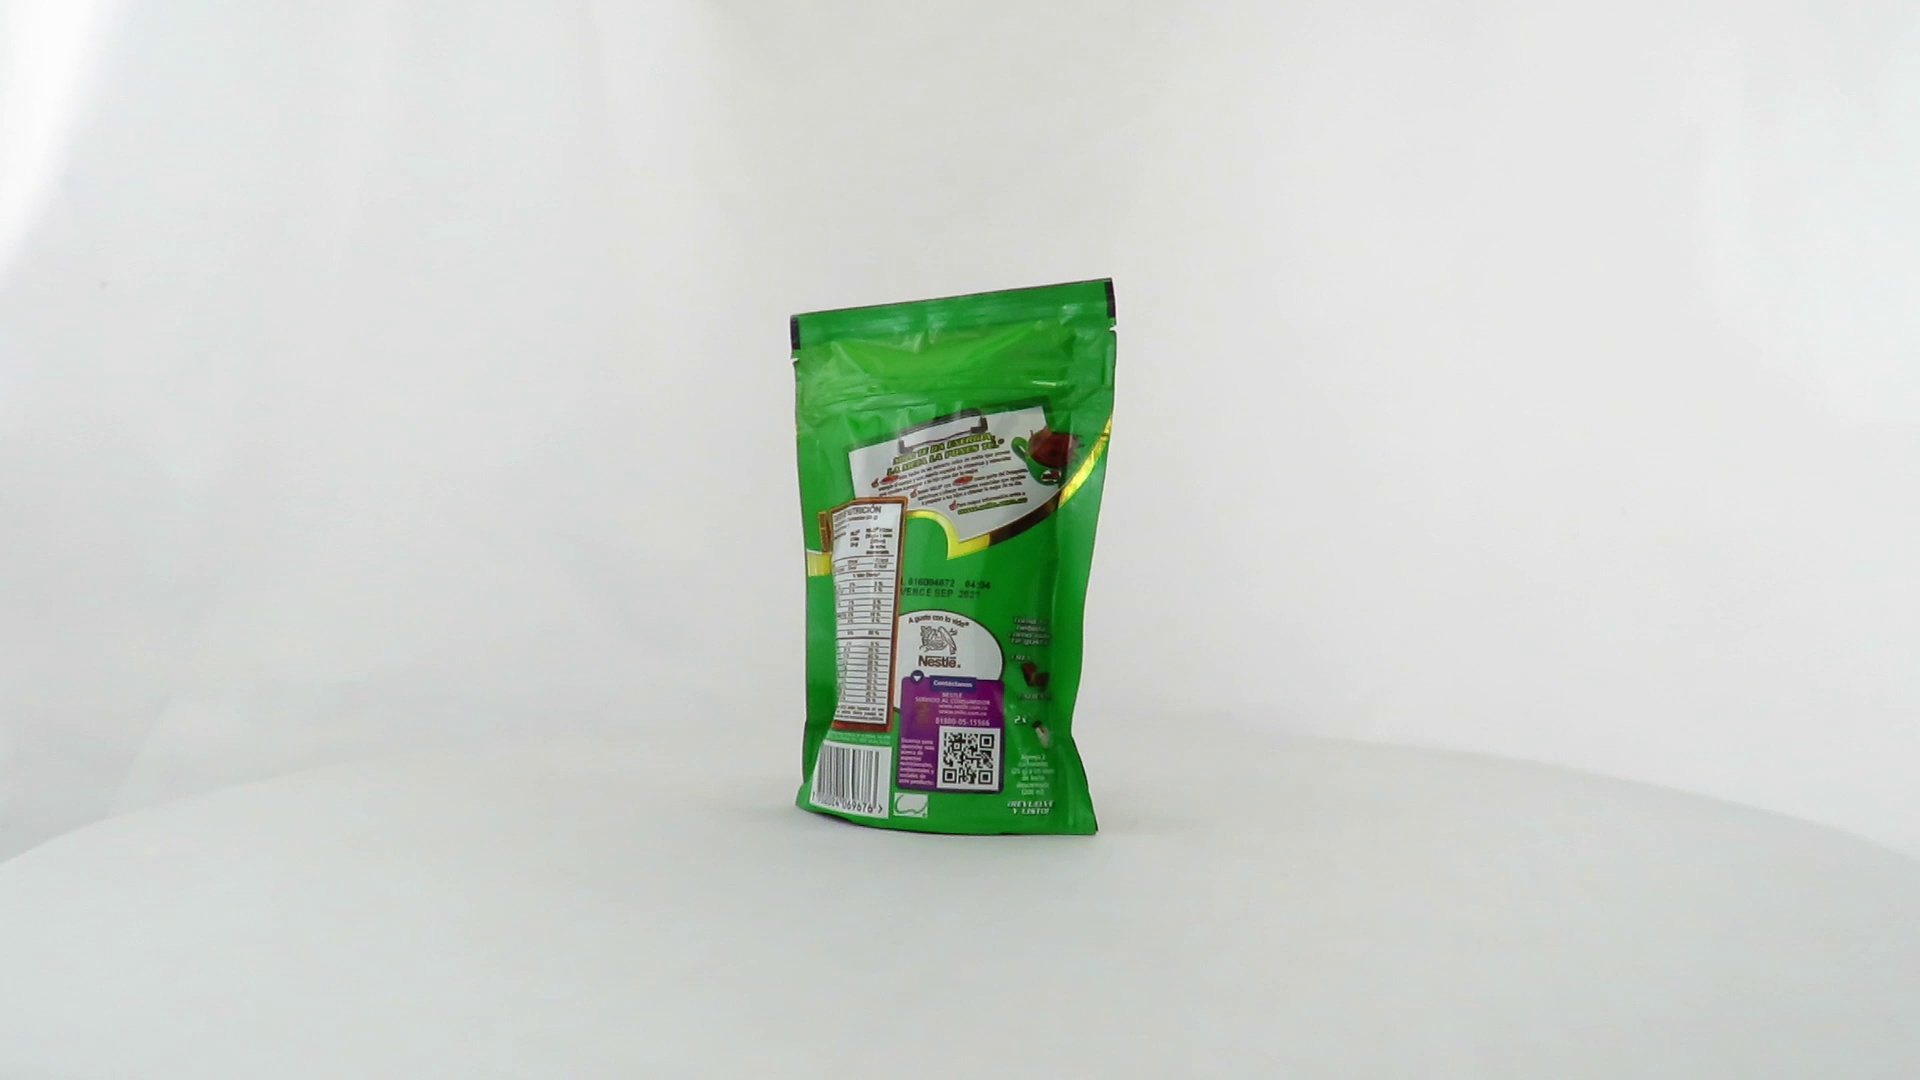COL0170203DYP10000: (785, 272, 1124, 843)
